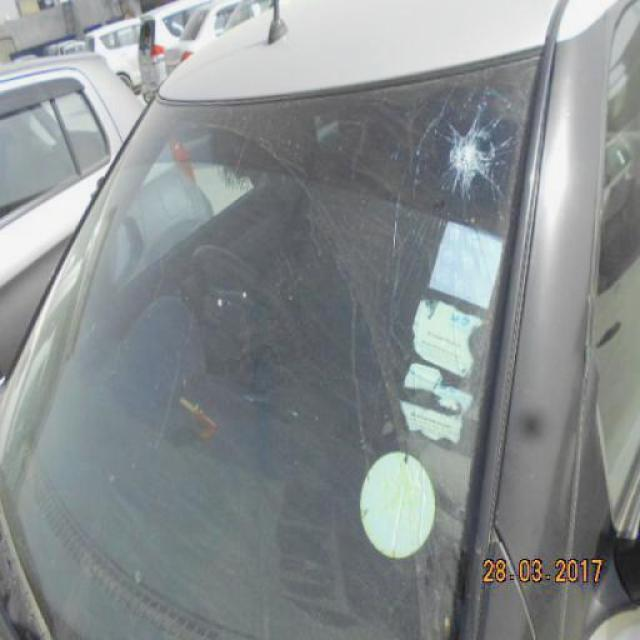car damage: (435, 121, 503, 195)
